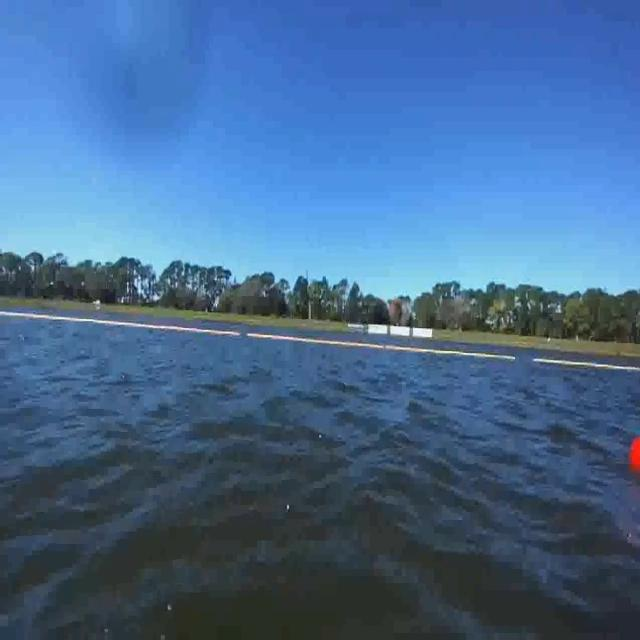red-buoy: (630, 438, 640, 473)
